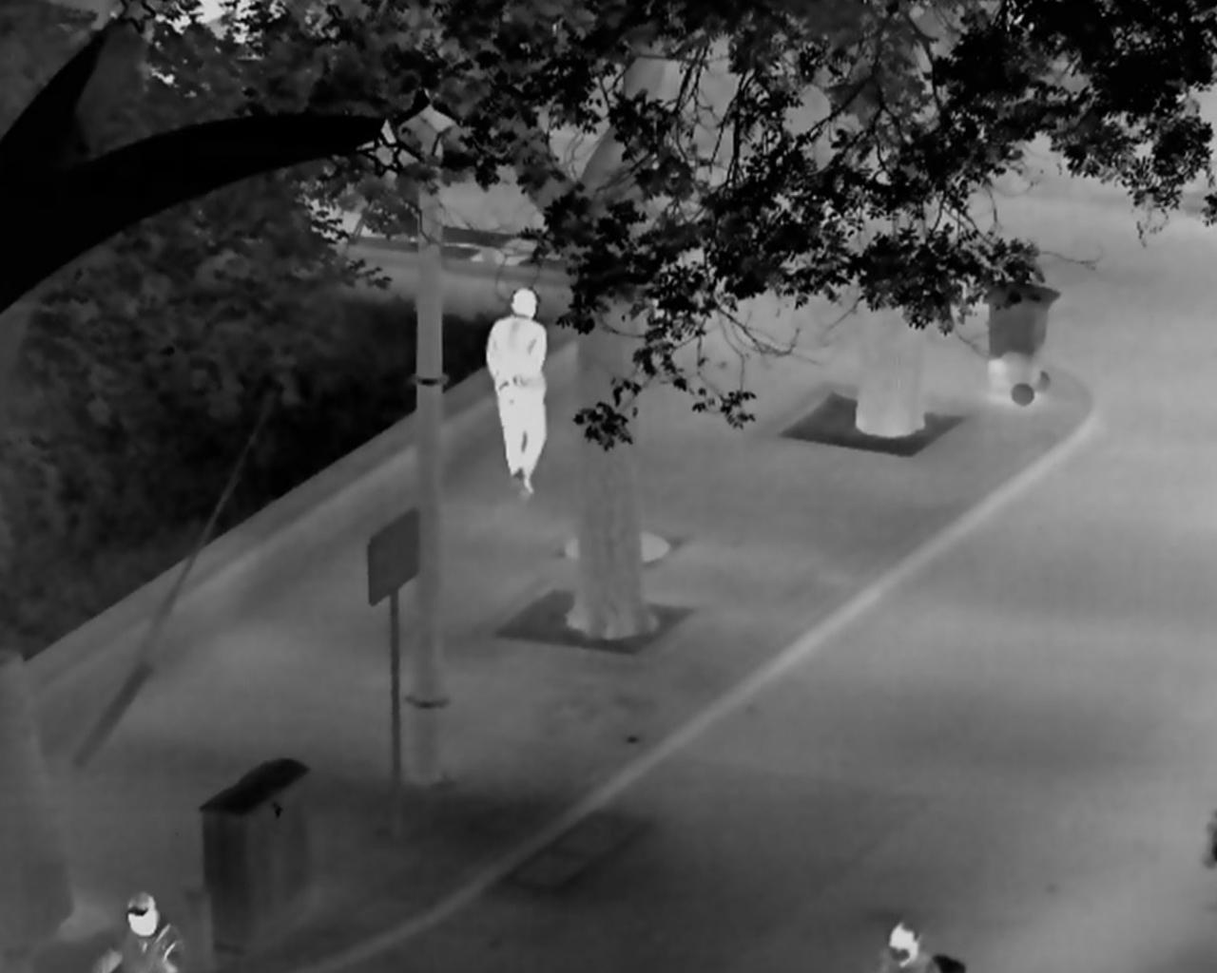person: (485, 286, 549, 494), (88, 890, 190, 973), (876, 921, 967, 973)
